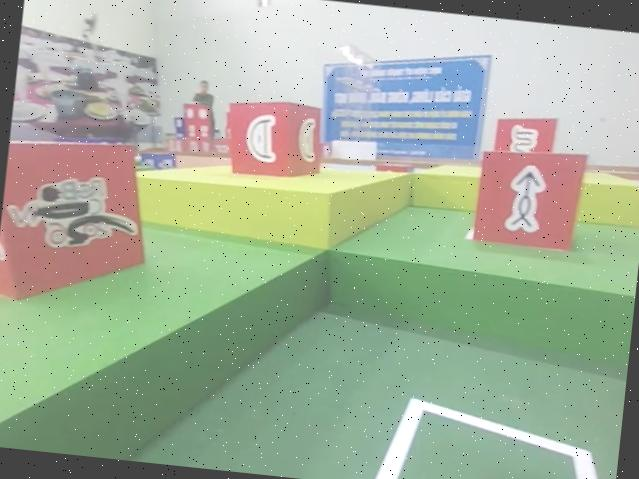R1: (0, 130, 156, 313)
R2 Fake: (490, 108, 559, 180)
R2 Real: (470, 140, 591, 252), (221, 95, 328, 185)
